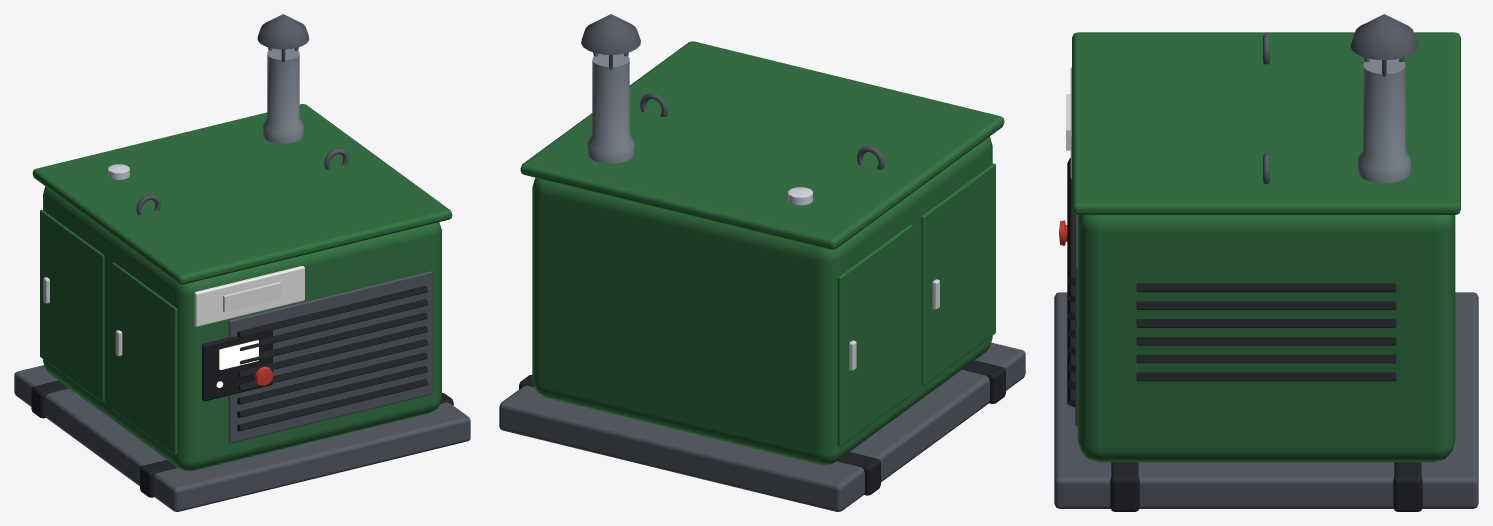
The model's file is GenDiesel25.fbx.
The picture shows the model from 3 angles, left to right: view 1: azimuth 30°, elevation 25°; view 2: azimuth 150°, elevation 25°; view 3: azimuth 270°, elevation 25°; orthographic projection. The views are drawn at different scales.
Parts seen in each view (by area): view 1: Body__GreenDark, Body__MetalDark, Body__Black, Body__Steel, Body__White, Body__Black!1, Body__NeonGreen, Body__Chrome; view 2: Body__GreenDark, Body__MetalDark, Body__Steel, Body__Black, Body__Chrome; view 3: Body__GreenDark, Body__MetalDark, Body__Black, Body__Steel.
Boxes of the visible parts, box(x1,y1,x2,y2) form: Body__GreenDark: box(32, 104, 452, 471); Body__MetalDark: box(14, 14, 470, 511); Body__Black: box(31, 286, 453, 497); Body__Steel: box(263, 48, 303, 143); Body__White: box(194, 266, 304, 326); Body__Black!1: box(223, 282, 281, 312); Body__NeonGreen: box(219, 340, 258, 369); Body__Chrome: box(43, 164, 129, 356); Body__GreenDark: box(520, 41, 1004, 464); Body__MetalDark: box(499, 14, 1025, 511); Body__Steel: box(587, 53, 634, 163); Body__Black: box(519, 360, 1005, 495); Body__Chrome: box(788, 187, 939, 370); Body__GreenDark: box(1072, 32, 1460, 462); Body__MetalDark: box(1054, 14, 1478, 508); Body__Black: box(1067, 157, 1422, 511); Body__Steel: box(1358, 59, 1410, 183).
Bounding box in the file's own units: 3.9 × 4.78 × 3.6.
